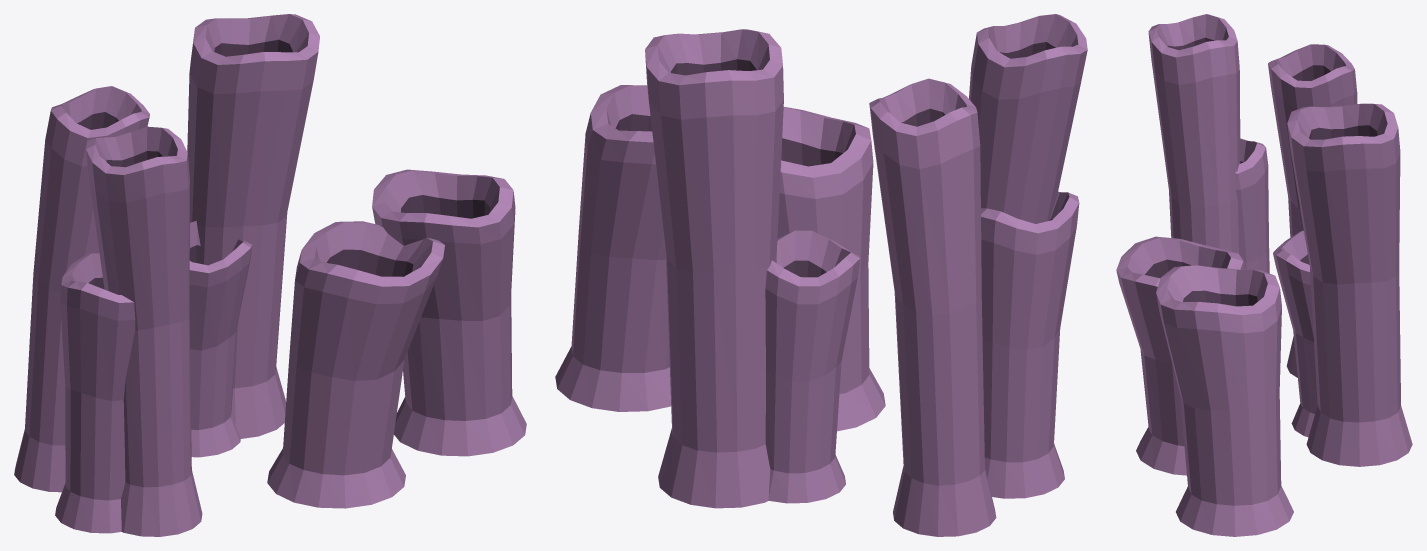
Rendered from sponge.glb.
3 views of the same model, side by side, from view 1: azimuth 30°, elevation 25°; view 2: azimuth 150°, elevation 25°; view 3: azimuth 270°, elevation 25° (orthographic). The views are drawn at different scales.
Visible parts, largest first — view 1: sponge; view 2: sponge; view 3: sponge.
Boxes of the visible parts, x1,y1,x2,y2 form: sponge: (14,14,526,536); sponge: (555,14,1087,536); sponge: (1116,14,1412,536).
Bounding box in the file's own units: 1.64 × 1.33 × 1.06.
